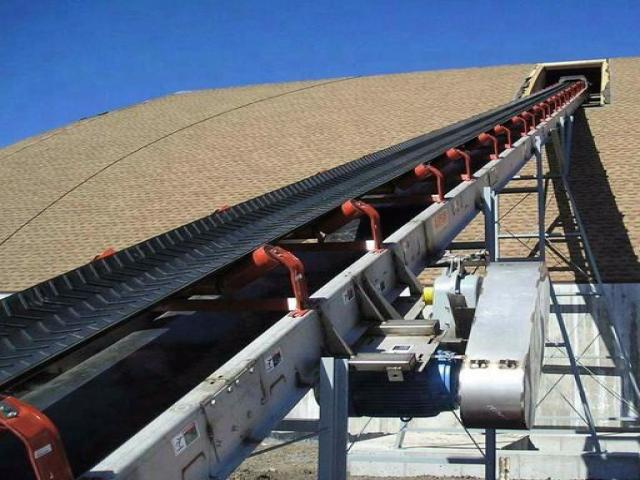conveyor: (4, 74, 585, 473)
